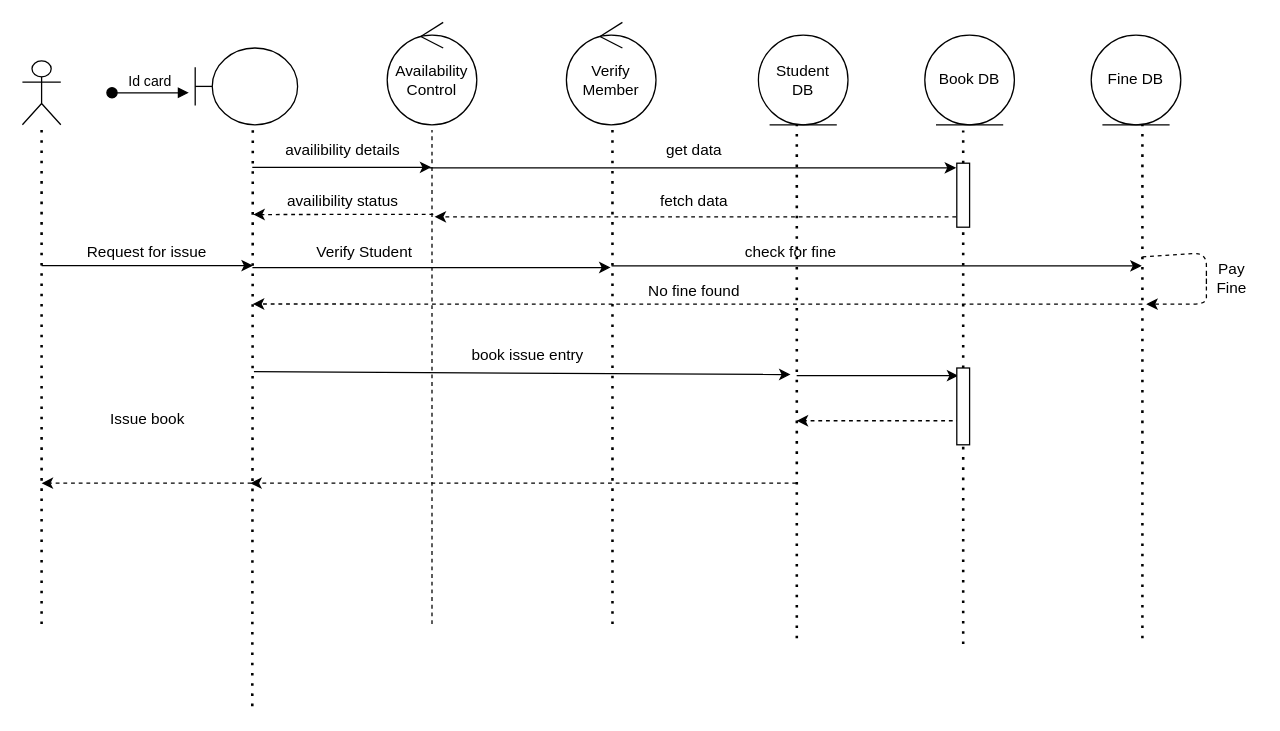
Some shapes in this 1280 by 731 pixel diagram are drawn without their labels. Here are the shapes that lost their labels. From the top down, the centre of each, then its label:
point 41,92: User
point 246,86: Librarian
